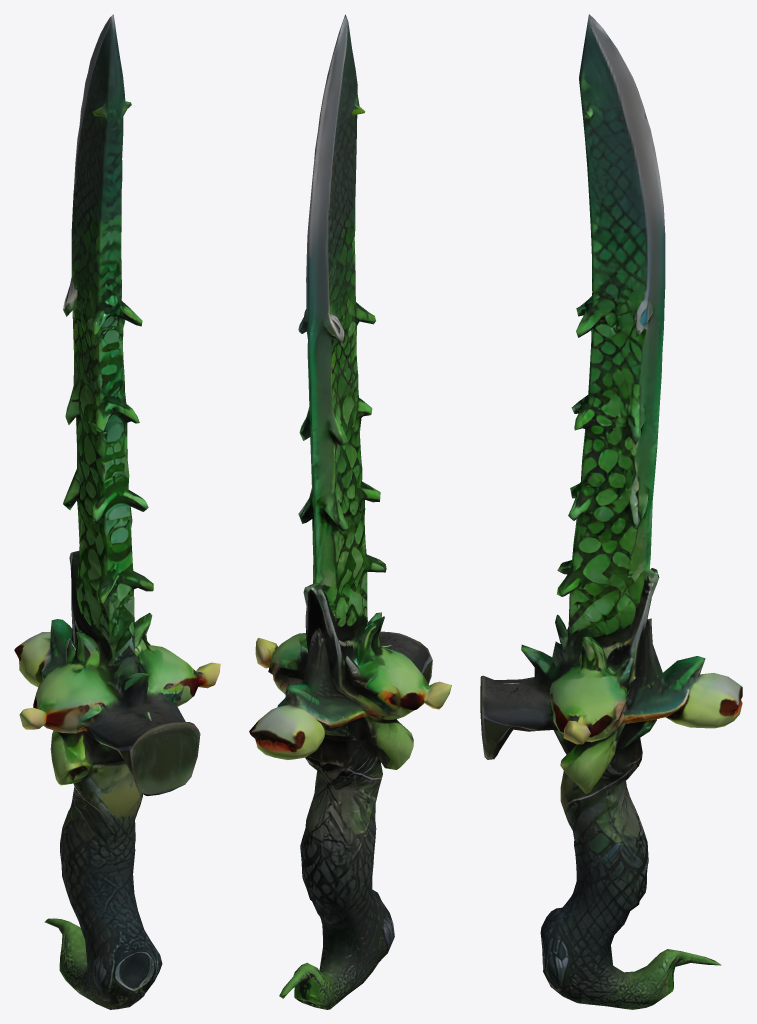
File: wpn_viperblade.glb
3 views of the same model, side by side, from view 1: azimuth 30°, elevation 25°; view 2: azimuth 150°, elevation 25°; view 3: azimuth 270°, elevation 25° (orthographic). The views are drawn at different scales.
Visible parts, largest first — view 1: tripo_node_a7a60d7c-e808-4f6a-a8e2-05b5190b22f4; view 2: tripo_node_a7a60d7c-e808-4f6a-a8e2-05b5190b22f4; view 3: tripo_node_a7a60d7c-e808-4f6a-a8e2-05b5190b22f4.
Boxes of the visible parts, <box> form: tripo_node_a7a60d7c-e808-4f6a-a8e2-05b5190b22f4: <box>14,14,220,1009</box>; tripo_node_a7a60d7c-e808-4f6a-a8e2-05b5190b22f4: <box>249,14,451,1009</box>; tripo_node_a7a60d7c-e808-4f6a-a8e2-05b5190b22f4: <box>480,14,742,1009</box>.
Size of the model in its own units: 0.2082 by 1 by 0.2399.
Materials: 1 (1 with a texture image).
